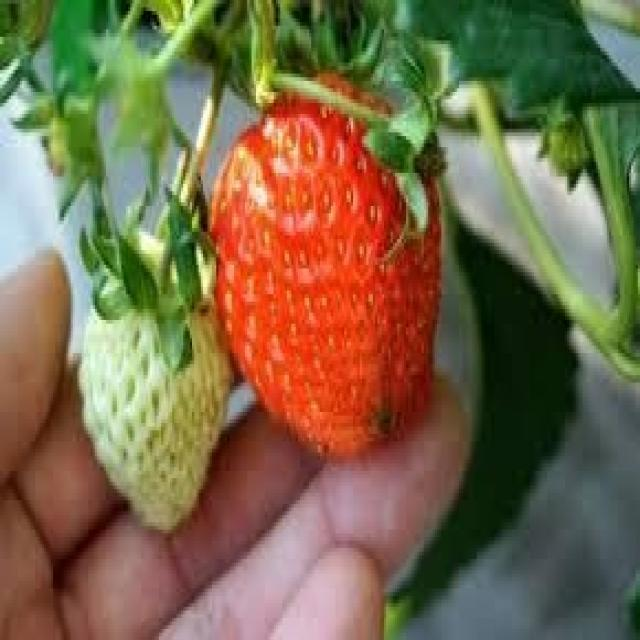Strawberry: (208, 89, 443, 464), (78, 276, 234, 532)
